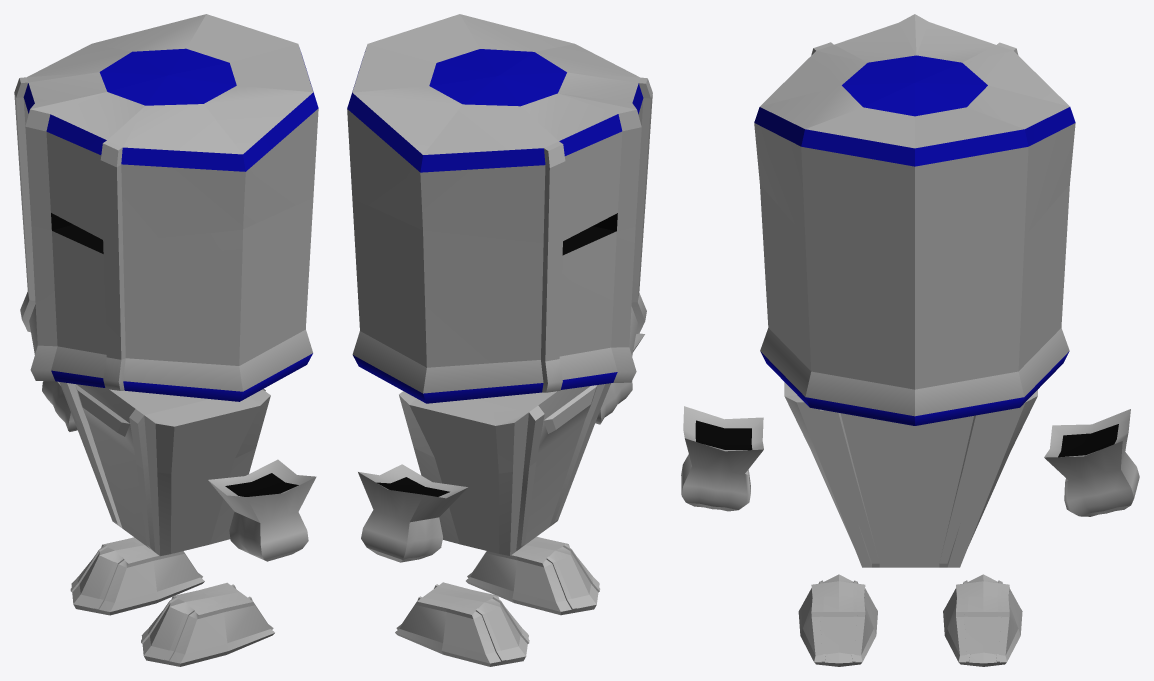
The model's file is HeroMinion.fbx.
3 views of the same model, side by side, from view 1: azimuth 30°, elevation 25°; view 2: azimuth 150°, elevation 25°; view 3: azimuth 270°, elevation 25° (orthographic). The views are drawn at different scales.
Parts seen in each view (by area): view 1: HeroMinionHead, HeroMinionBody, HeroMinionLeftLeg, HeroMinionLeftHand, HeroMinionRightLeg, HeroMinionRightHand; view 2: HeroMinionHead, HeroMinionBody, HeroMinionRightLeg, HeroMinionRightHand, HeroMinionLeftLeg, HeroMinionLeftHand; view 3: HeroMinionHead, HeroMinionBody, HeroMinionRightHand, HeroMinionLeftHand, HeroMinionLeftLeg, HeroMinionRightLeg.
Part boxes in pixels (<box>): HeroMinionHead: <box>14,14,318,401</box>; HeroMinionBody: <box>59,382,270,556</box>; HeroMinionLeftLeg: <box>141,582,274,666</box>; HeroMinionLeftHand: <box>208,459,316,561</box>; HeroMinionRightLeg: <box>70,537,204,615</box>; HeroMinionRightHand: <box>42,381,77,431</box>; HeroMinionHead: <box>347,14,652,403</box>; HeroMinionBody: <box>399,383,610,555</box>; HeroMinionRightLeg: <box>395,582,529,666</box>; HeroMinionRightHand: <box>358,464,468,562</box>; HeroMinionLeftLeg: <box>466,536,600,615</box>; HeroMinionLeftHand: <box>595,333,644,424</box>; HeroMinionHead: <box>754,14,1075,425</box>; HeroMinionBody: <box>784,382,1037,567</box>; HeroMinionRightHand: <box>1044,409,1139,516</box>; HeroMinionLeftHand: <box>681,406,763,511</box>; HeroMinionLeftLeg: <box>798,574,877,666</box>; HeroMinionRightLeg: <box>943,574,1022,666</box>.
Size of the model in its own units: 1.03 by 1.94 by 1.44.
